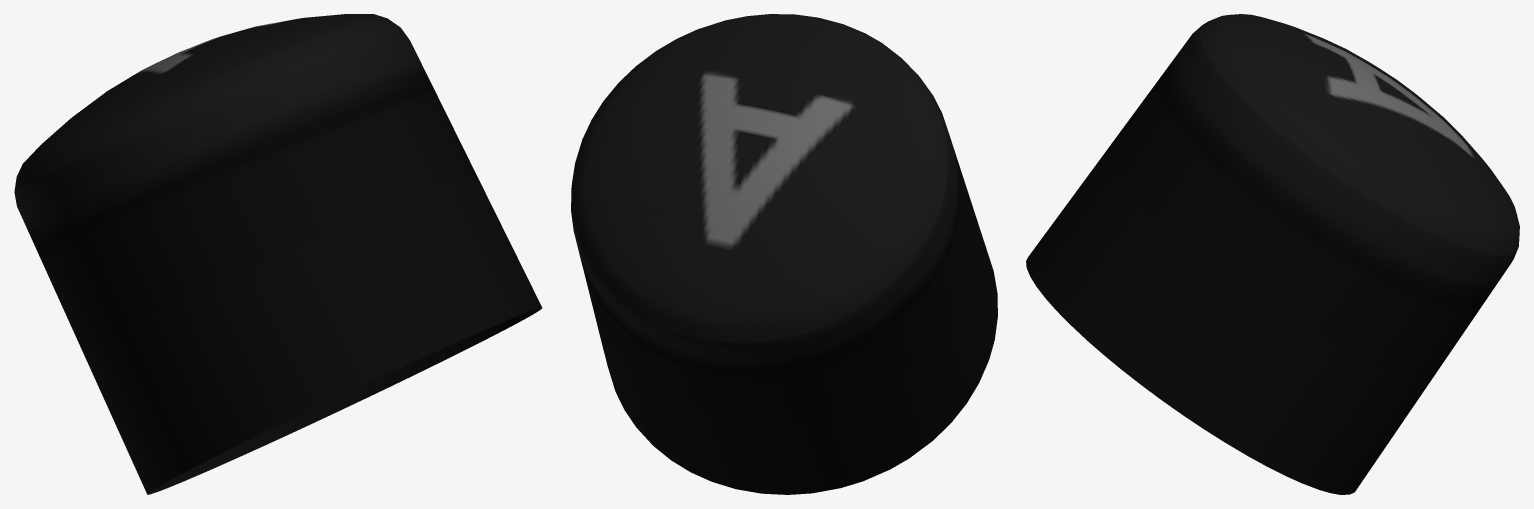
File: frame_controller_right_a_button.obj
3 renders of one model, left to right at view 1: azimuth 30°, elevation 25°; view 2: azimuth 150°, elevation 25°; view 3: azimuth 270°, elevation 25°, orthographic. The views are drawn at different scales.
Parts seen in each view (by area): view 1: frame_controller_right_a_button; view 2: frame_controller_right_a_button; view 3: frame_controller_right_a_button.
Part boxes in pixels (left/top/right/bottom): frame_controller_right_a_button: left=14, top=14, right=542, bottom=494; frame_controller_right_a_button: left=571, top=14, right=997, bottom=494; frame_controller_right_a_button: left=1026, top=14, right=1519, bottom=494.
Size of the model in its own units: 0.01 by 0.0109 by 0.0113.
Materials: 1 (1 with a texture image).
